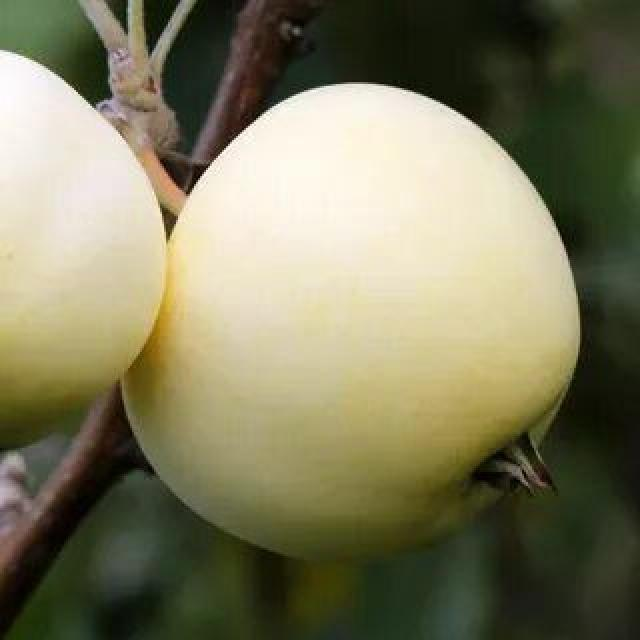Fresh Apple: (152, 85, 593, 537)
